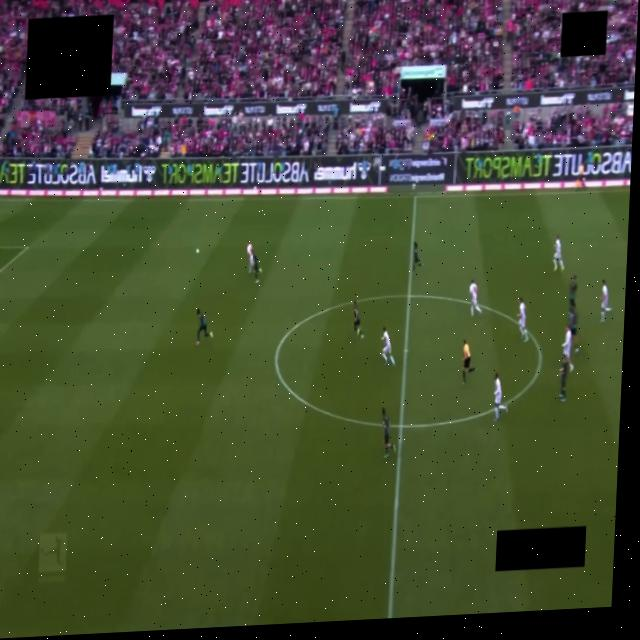ball: (195, 248, 199, 254)
player: (493, 373, 507, 420), (381, 408, 394, 458), (195, 309, 212, 346), (381, 327, 394, 366), (568, 302, 578, 352), (561, 326, 572, 371), (517, 298, 528, 341), (558, 357, 568, 402), (469, 280, 481, 316), (600, 280, 610, 322), (553, 235, 563, 272), (353, 301, 362, 338), (252, 252, 260, 283), (568, 275, 576, 306), (412, 242, 421, 269), (246, 242, 253, 273)
referee: (462, 340, 475, 383)
